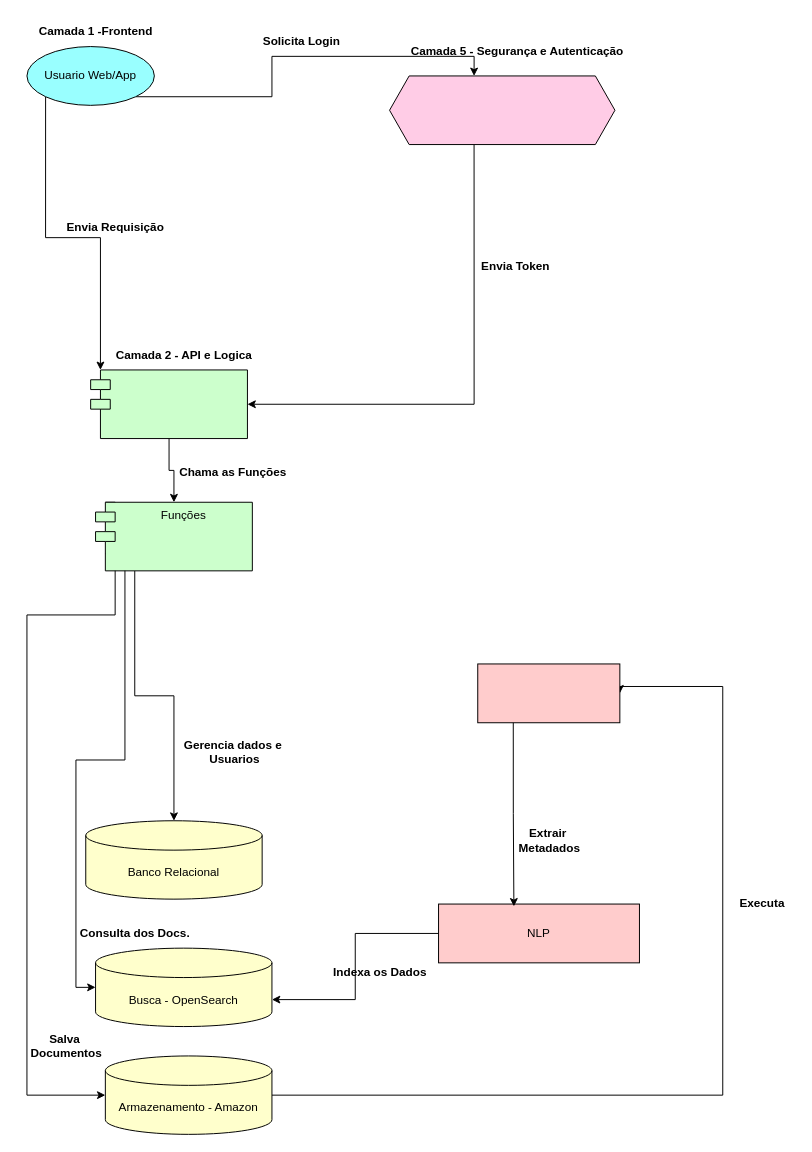
Image size: 812x1152. Some labels were removed from this diagram. The shapes that lost their labels are listed below. From the top down, each one's centre as x and y in pixels, then its label:
At (502,110): "Login/Controle de Acesso AWS".
At (168,404): "API GateWay".
At (548,693): "Textract".
